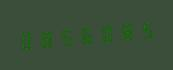eight: (37, 24, 56, 52), (117, 17, 136, 45)
five: (57, 22, 76, 50), (137, 15, 156, 43)
six: (77, 20, 96, 49)
zero: (17, 26, 36, 54), (97, 19, 116, 47)
